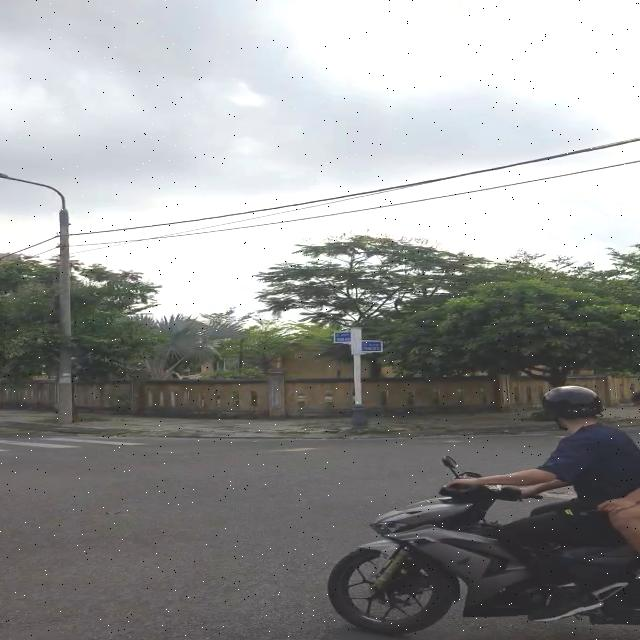helmet: (532, 378, 609, 434)
